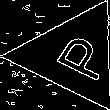P_NW: (37, 27, 108, 84)
